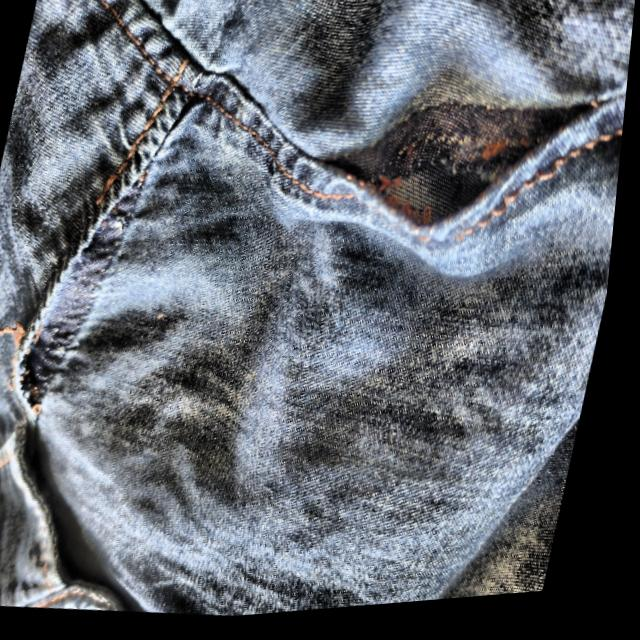seam: (309, 29, 626, 276), (4, 130, 178, 434)
